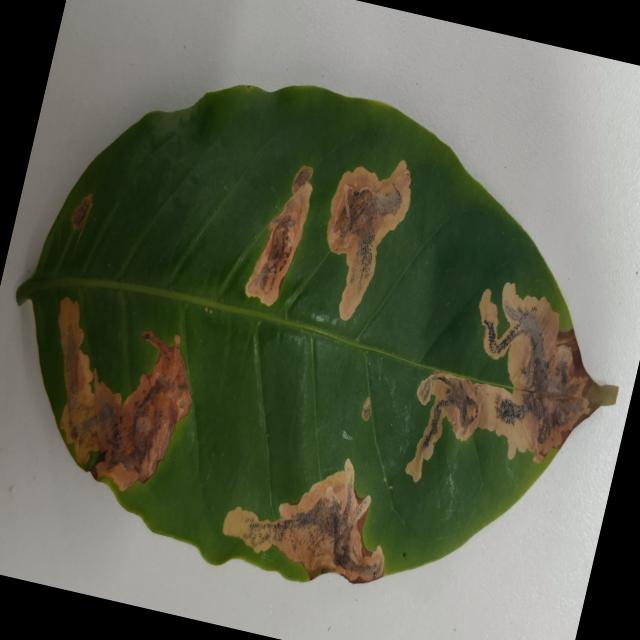KaratDaunKopi: (405, 282, 594, 481), (58, 296, 191, 490), (222, 459, 383, 582), (327, 160, 410, 320), (245, 166, 312, 306), (405, 370, 483, 481), (71, 194, 92, 229), (361, 397, 370, 421), (555, 411, 556, 412)
